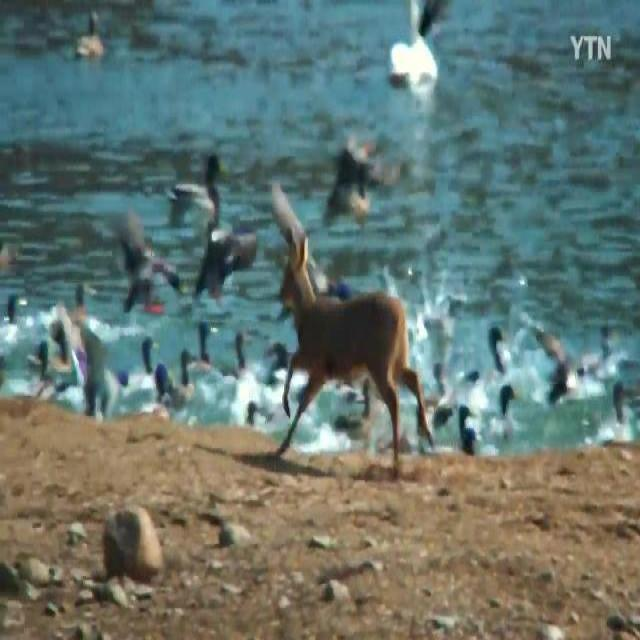deer: (272, 229, 434, 466)
